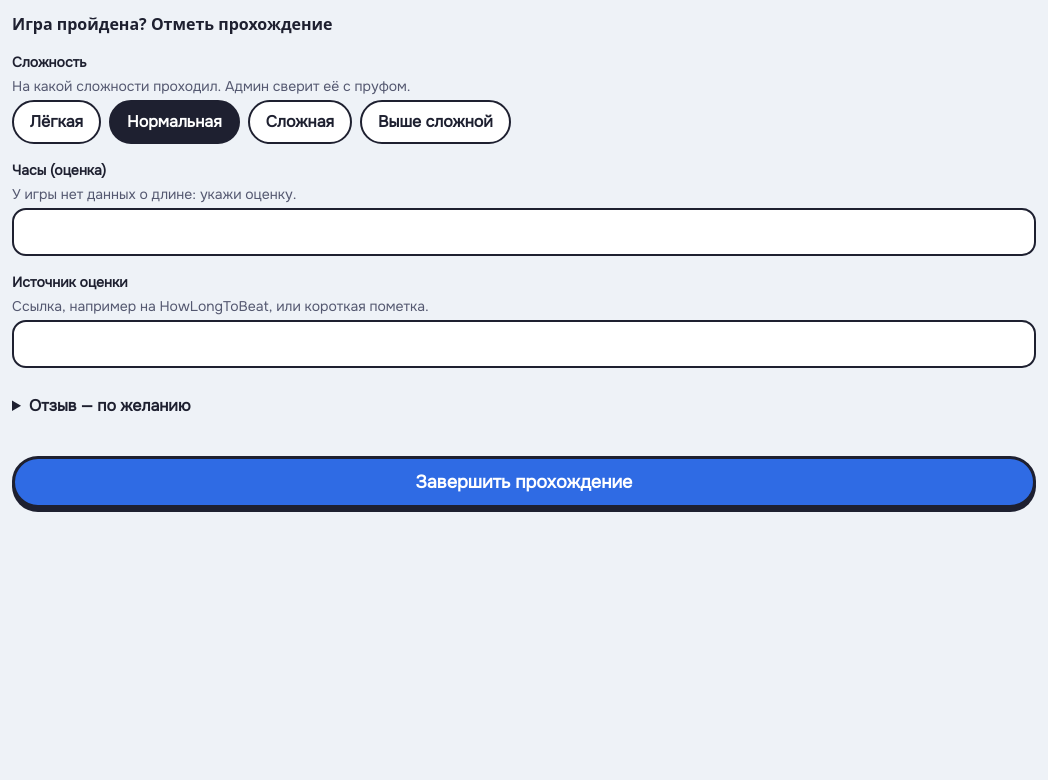
CompleteForm › refuses the estimate "0"
Type "0" into the field with test id "complete-hours" at (524, 232), box x1=12 y1=208 x2=1036 y2=256
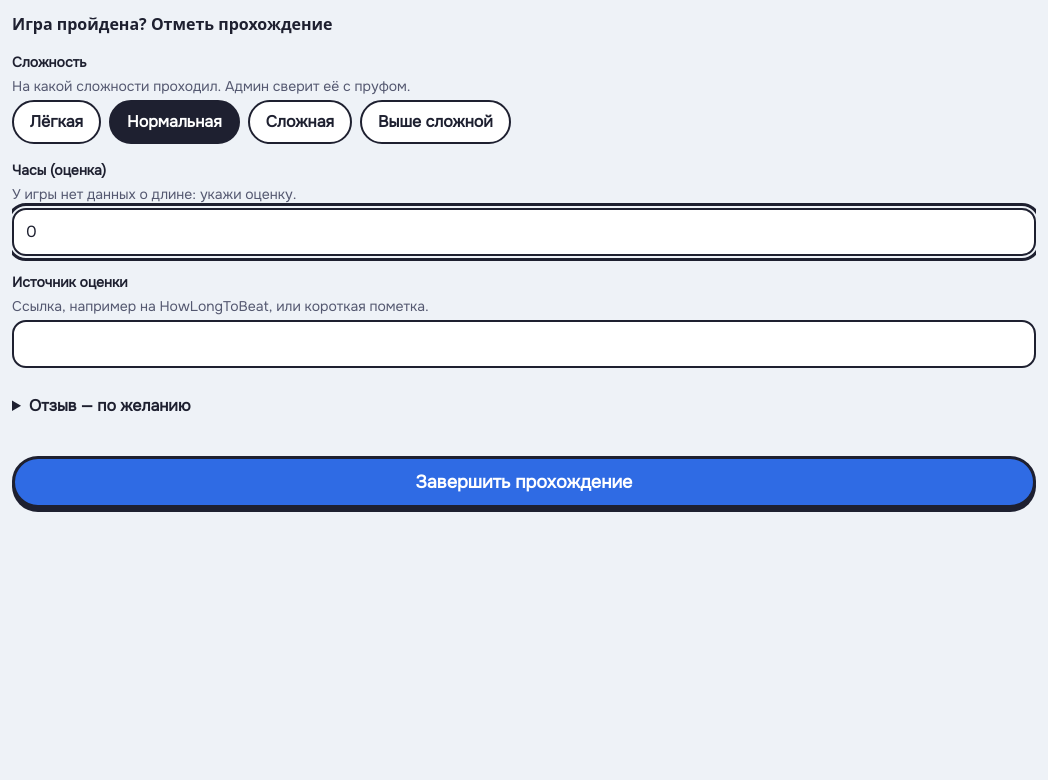
Type "HLTB" into the field with test id "complete-hours-source" at (524, 344), box x1=12 y1=320 x2=1036 y2=368
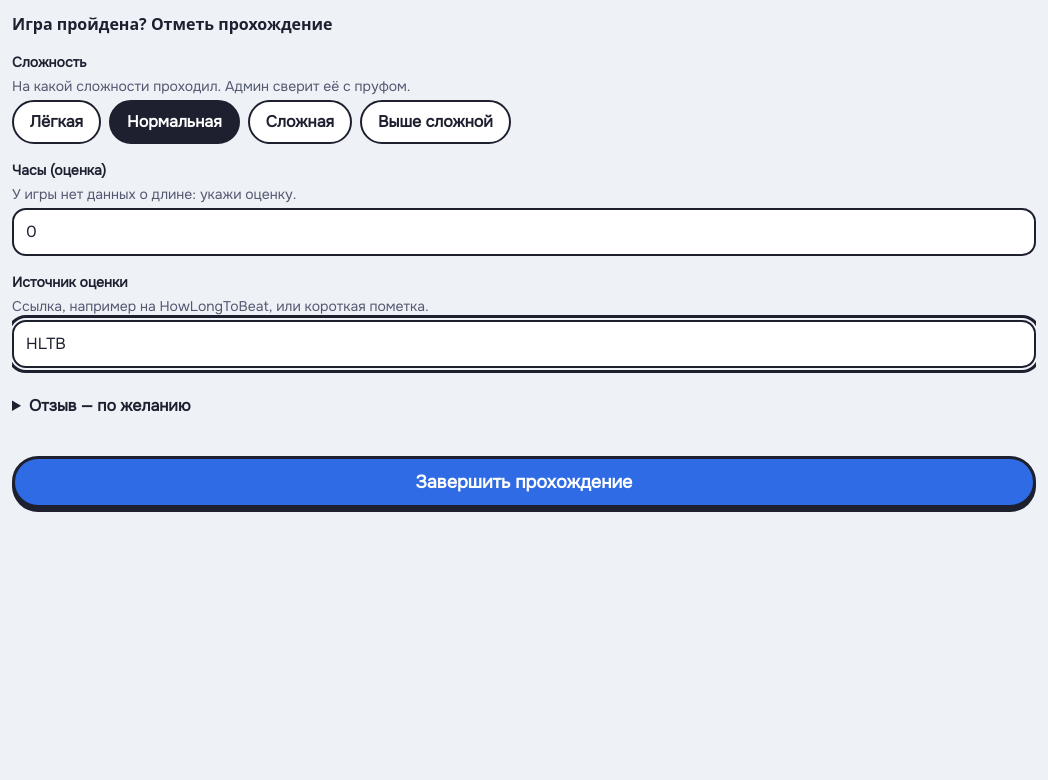
Click the button with test id "complete-submit" at (524, 482), box x1=12 y1=456 x2=1036 y2=508
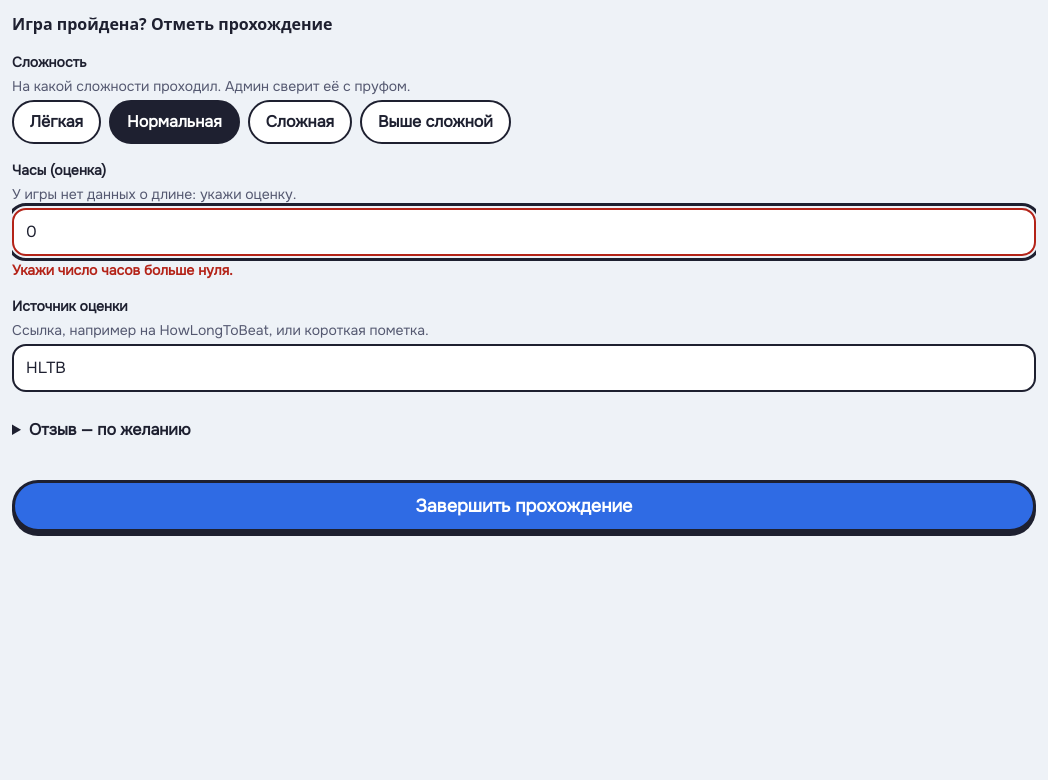
Result: the message reads "Укажи число часов больше нуля." at x1=12 y1=261 x2=233 y2=279
